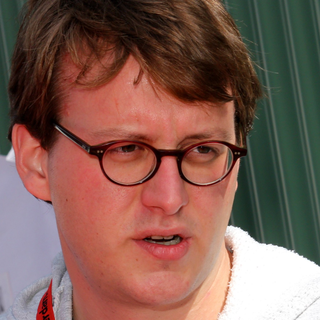eye: (102, 136, 148, 159), (183, 140, 222, 164)
